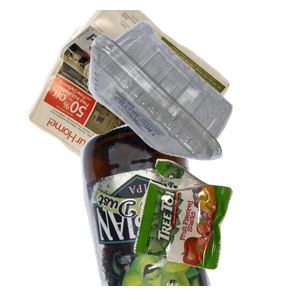glass: (78, 120, 281, 300)
paper: (23, 10, 245, 190)
plastic: (86, 18, 300, 171)
trash: (131, 156, 300, 300)
